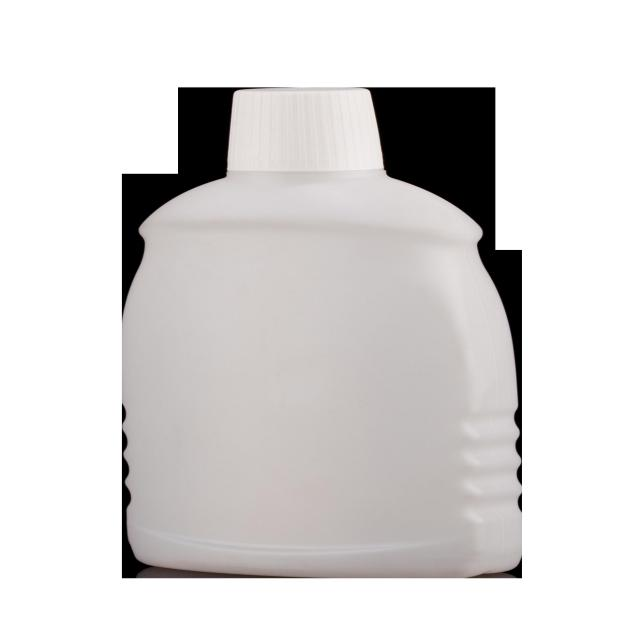plastic_bottle: (115, 76, 535, 610)
